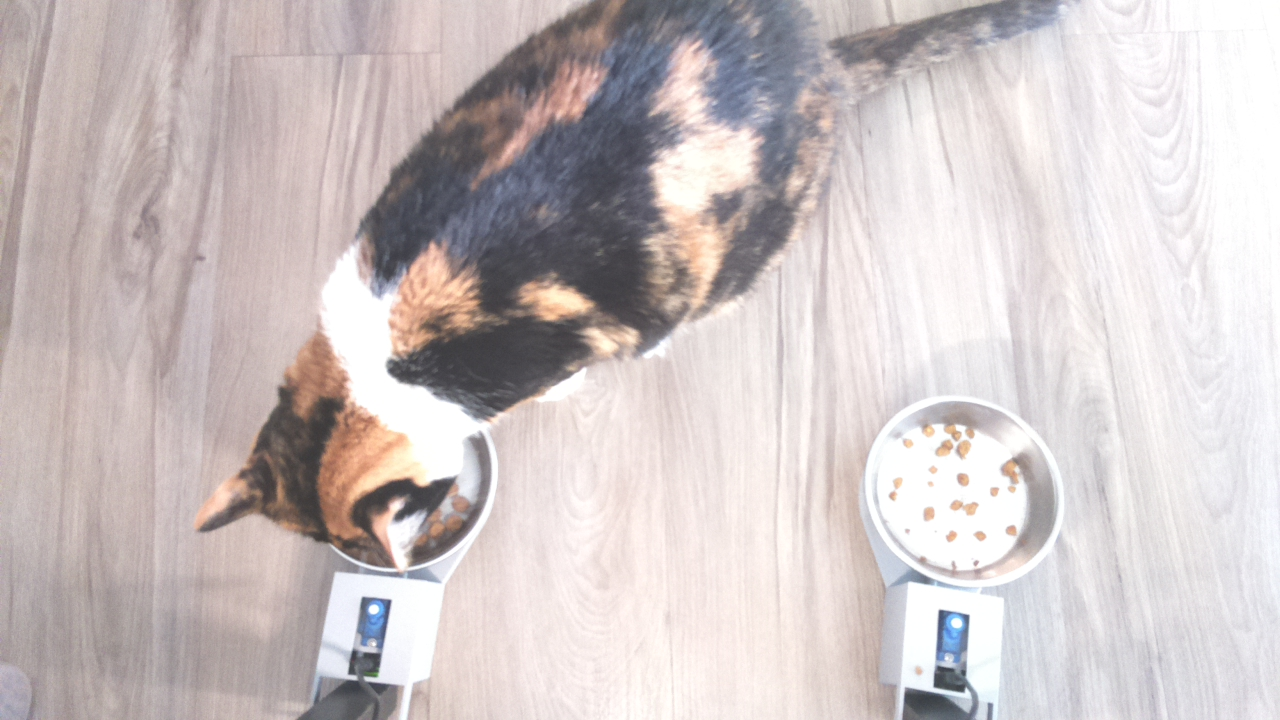bella_eating: (184, 322, 514, 580)
open_bowl: (863, 393, 1066, 594)
